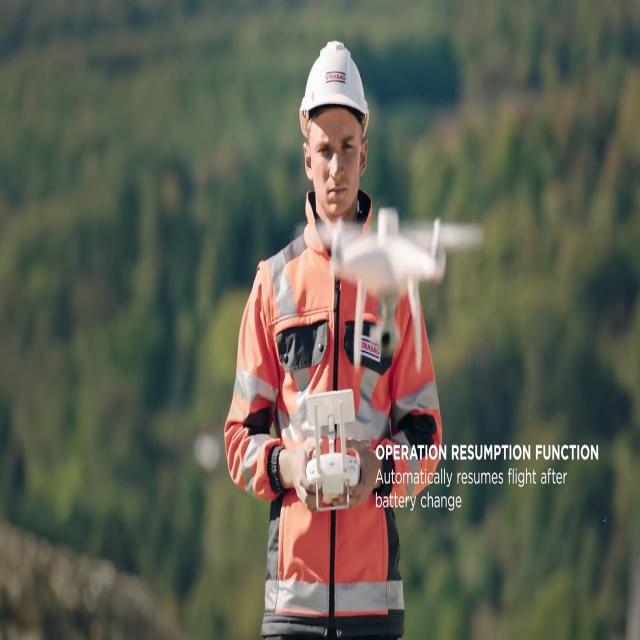drone: (302, 211, 483, 367)
